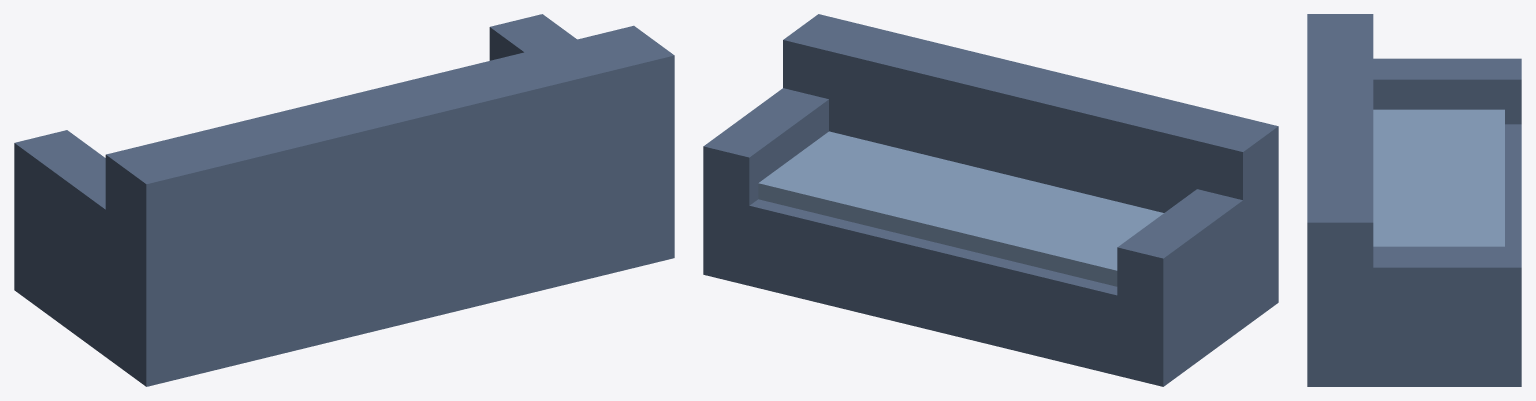
File: canape.glb
3 views of the same model, side by side, from view 1: azimuth 30°, elevation 25°; view 2: azimuth 150°, elevation 25°; view 3: azimuth 270°, elevation 25° (orthographic). The views are drawn at different scales.
Visible parts, largest first — view 1: main; view 2: main; view 3: main.
Boxes of the visible parts, x1=… form: main: x1=14, y1=14, x2=674, y2=386; main: x1=703, y1=14, x2=1278, y2=386; main: x1=1307, y1=14, x2=1521, y2=386.
Bounding box in the file's own units: 1.88 × 0.6875 × 0.8125.
